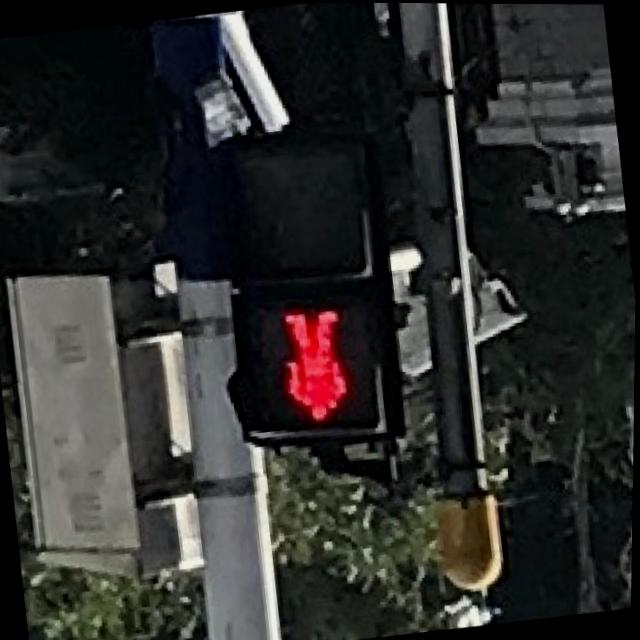red_light: (252, 294, 380, 448)
